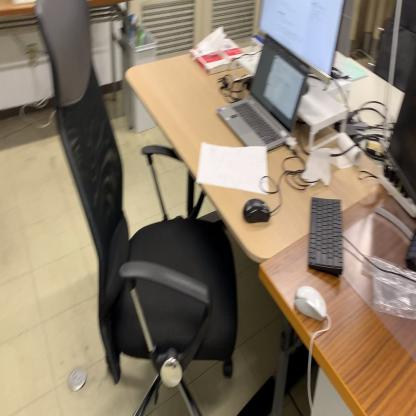chair: (34, 2, 240, 416)
